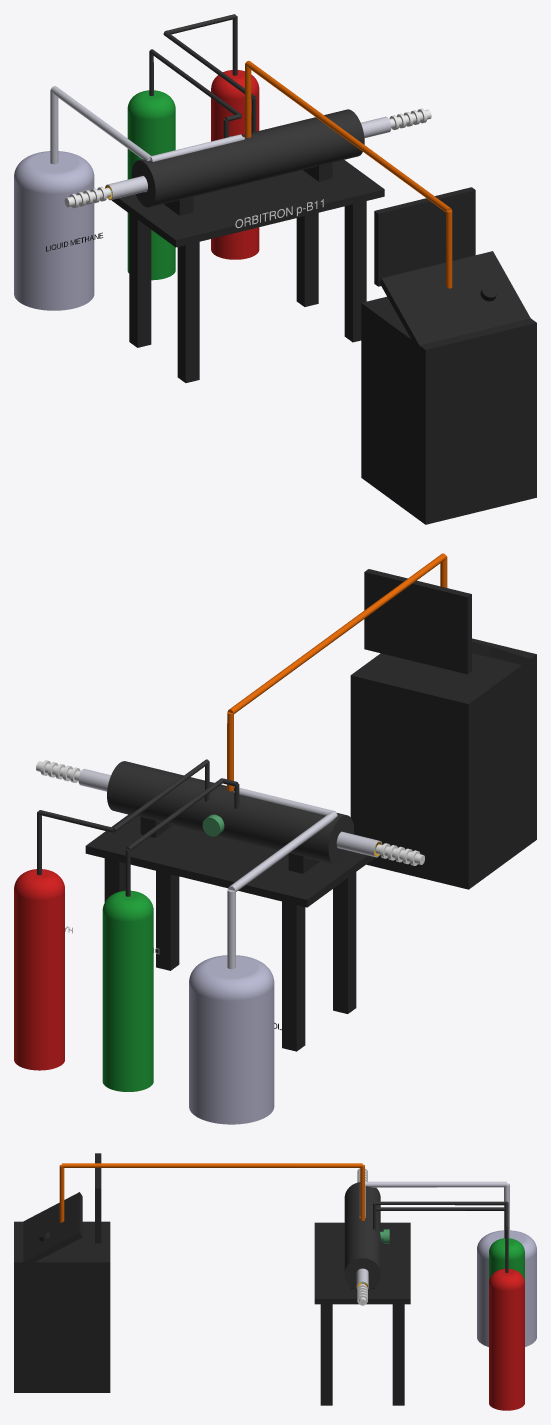
Rendered from orbitron_lab_v5.gltf.
The picture shows the model from 3 angles, top to bottom: view 1: azimuth 30°, elevation 25°; view 2: azimuth 150°, elevation 25°; view 3: azimuth 270°, elevation 25°; orthographic projection. The views are drawn at different scales.
Parts seen in each view (by area): view 1: Operator_Console, Optics_Table, Tank_Cryo_Methane, Magnet, Tank_Diborane, Tank_Hydrogen, High_Voltage_Umbilical, Fuel_Gas_Lines, Cryo_Methane_Piping, Insulators, Anode; view 2: Operator_Console, Optics_Table, Tank_Cryo_Methane, Magnet, Tank_Diborane, Tank_Hydrogen, Fuel_Gas_Lines, High_Voltage_Umbilical, Cryo_Methane_Piping, Insulators, Anode; view 3: Operator_Console, Optics_Table, Tank_Hydrogen, Magnet, Tank_Cryo_Methane, High_Voltage_Umbilical, Fuel_Gas_Lines, Cryo_Methane_Piping, Tank_Diborane.
Boxes of the visible parts, x1,y1,x2,y2 form: Operator_Console: (361, 187, 536, 524); Optics_Table: (111, 160, 384, 382); Tank_Cryo_Methane: (14, 151, 94, 310); Magnet: (131, 109, 364, 207); Tank_Diborane: (127, 90, 175, 280); Tank_Hydrogen: (211, 70, 259, 259); High_Voltage_Umbilical: (245, 60, 452, 288); Fuel_Gas_Lines: (149, 14, 256, 138); Cryo_Methane_Piping: (50, 86, 244, 164); Insulators: (64, 108, 431, 208); Anode: (105, 116, 391, 200); Operator_Console: (350, 569, 536, 889); Optics_Table: (85, 814, 375, 1051); Tank_Cryo_Methane: (189, 955, 274, 1124); Magnet: (107, 761, 353, 865); Tank_Diborane: (102, 890, 153, 1091); Tank_Hydrogen: (14, 869, 64, 1070); Fuel_Gas_Lines: (37, 759, 239, 896); High_Voltage_Umbilical: (227, 553, 447, 791); Cryo_Methane_Piping: (227, 788, 337, 969); Insulators: (36, 760, 424, 865); Anode: (78, 769, 382, 857); Operator_Console: (14, 1153, 110, 1392); Optics_Table: (314, 1222, 410, 1405); Tank_Hydrogen: (489, 1268, 524, 1410); Magnet: (344, 1182, 380, 1289); Tank_Cryo_Methane: (477, 1230, 536, 1346); High_Voltage_Umbilical: (59, 1163, 364, 1222); Fuel_Gas_Lines: (373, 1201, 508, 1272); Cryo_Methane_Piping: (359, 1181, 509, 1238); Tank_Diborane: (489, 1238, 524, 1280).
Bounding box in the file's own units: 2.6 × 1.92 × 4.35.
